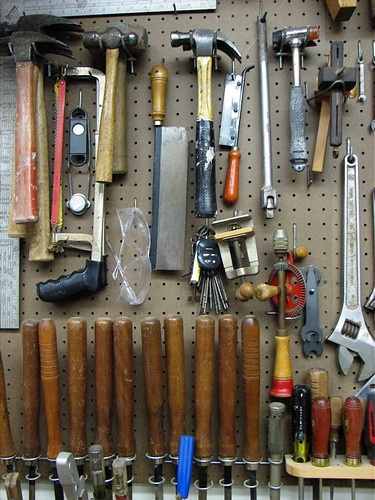hammer: (1, 30, 69, 227), (170, 29, 239, 216), (85, 29, 134, 185), (275, 24, 322, 172)
